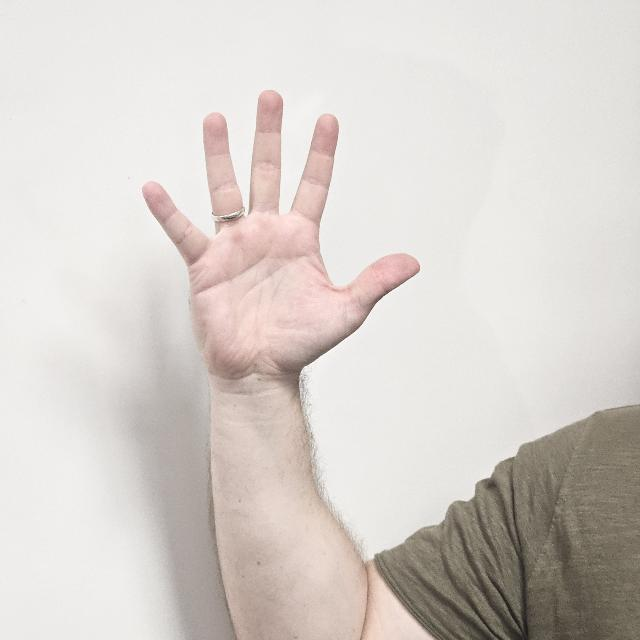X: (140, 91, 420, 415)
